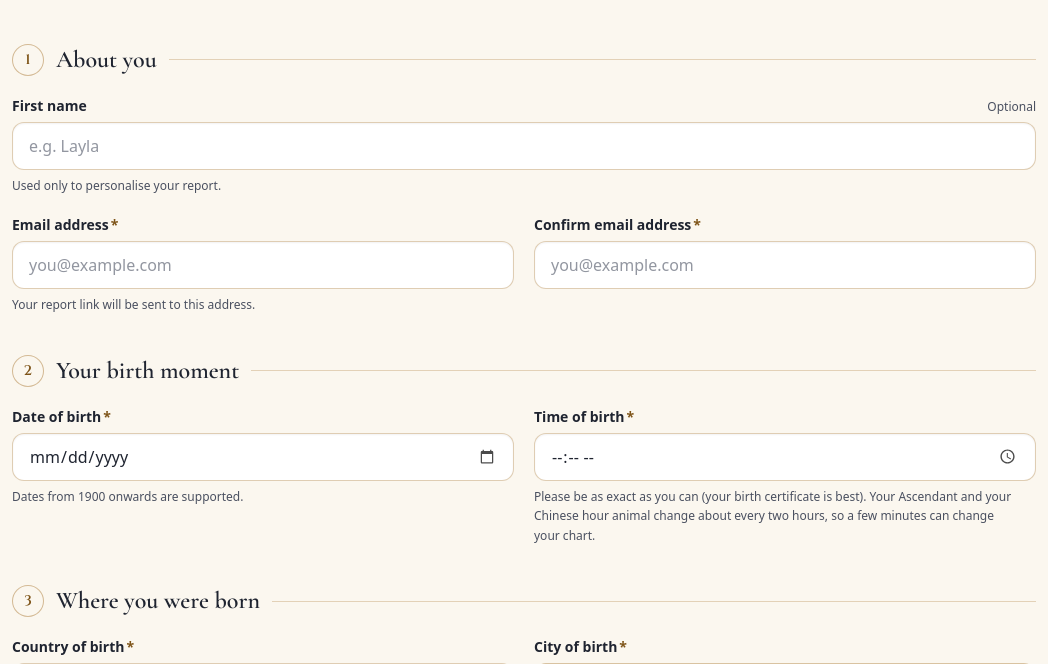
Test case: OrderForm › offers the suggested time when the birth time fell into a DST gap
In the field labelled "Email address*": [263, 265] box [12,241,514,289], type "layla@example.com"
In the field labelled "Confirm email address*": [785, 265] box [534,241,1036,289], type "layla@example.com"
In the date field labelled "Date of birth*": [263, 457] box [12,433,514,481], type "1990-10-28"
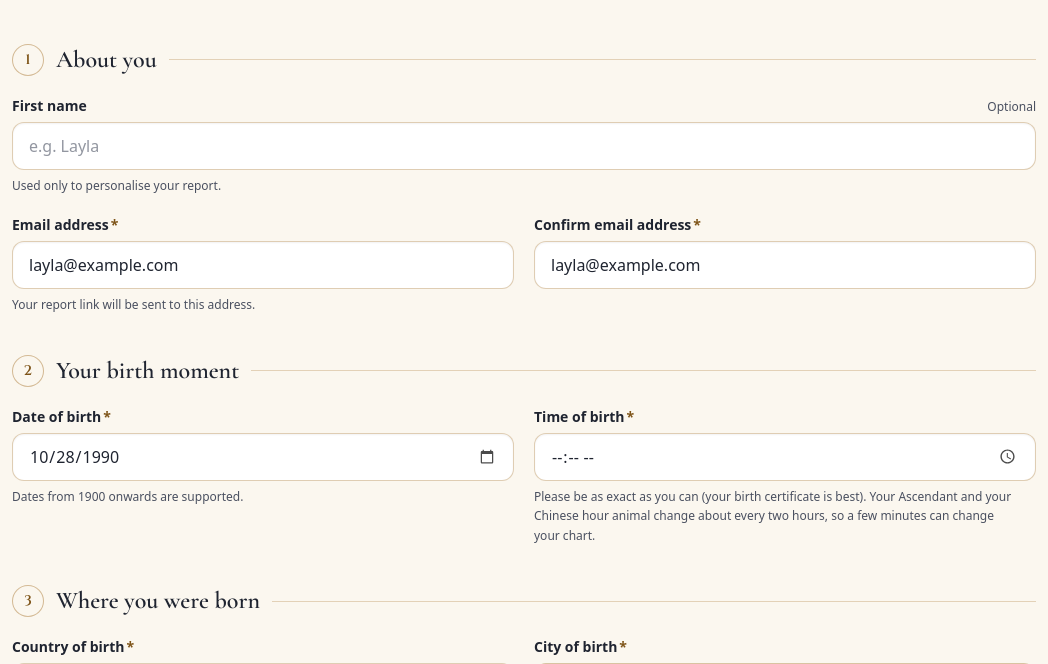
In the time field labelled "Time of birth*": [785, 457] box [534,433,1036,481], type "01:30"
(page scrolled)
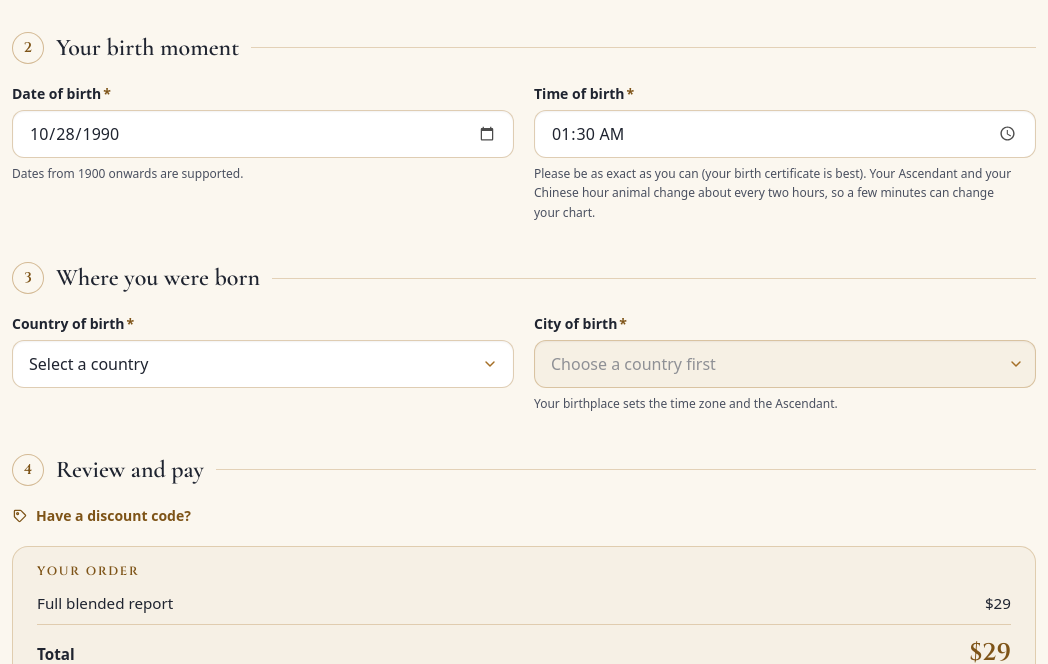
Select "Egypt" in the dropdown labelled "Country of birth*": [263, 364] box [12,340,514,388]
(page scrolled)
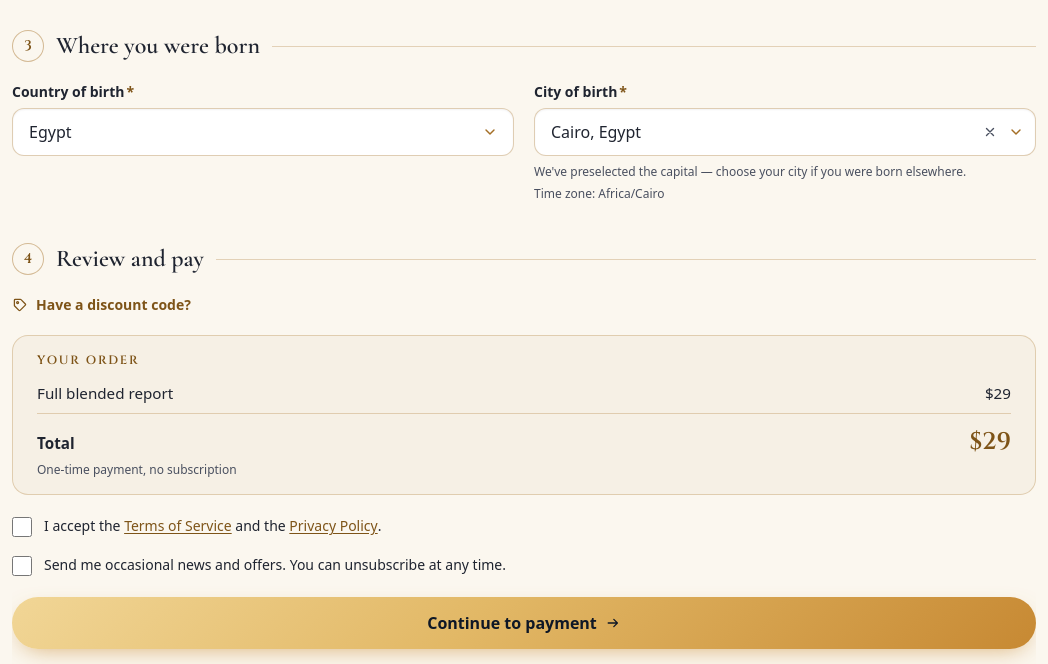
Click the checkbox labelled "I accept the Terms of Service and the Privacy Policy .": [22, 527] box [12,517,32,537]
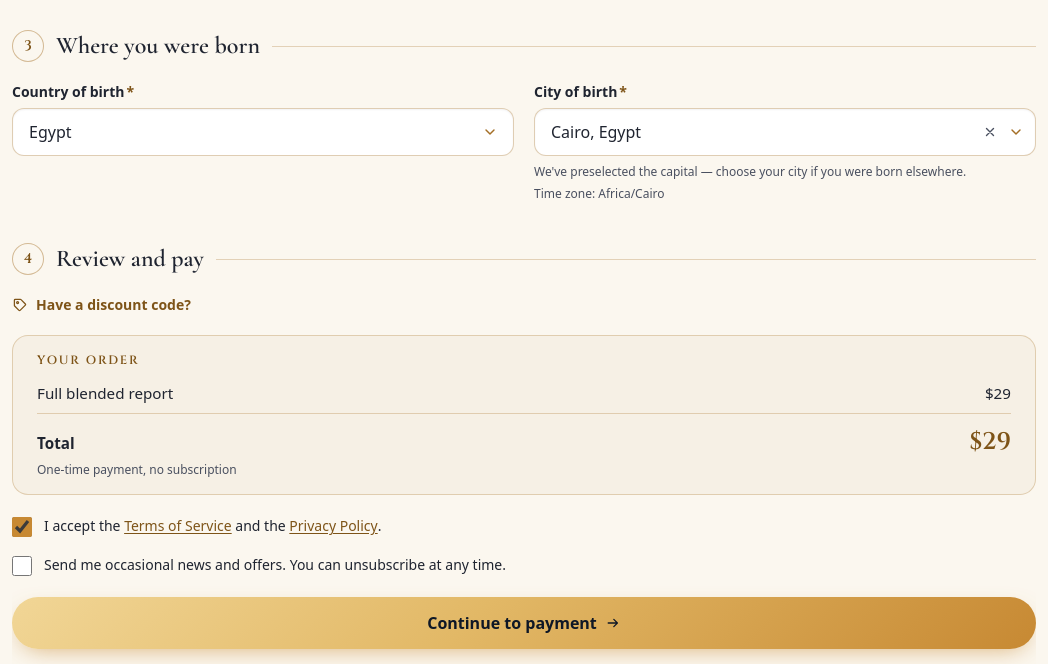
Click the button "Continue to payment": [524, 623] box [12,597,1036,649]
(page scrolled)
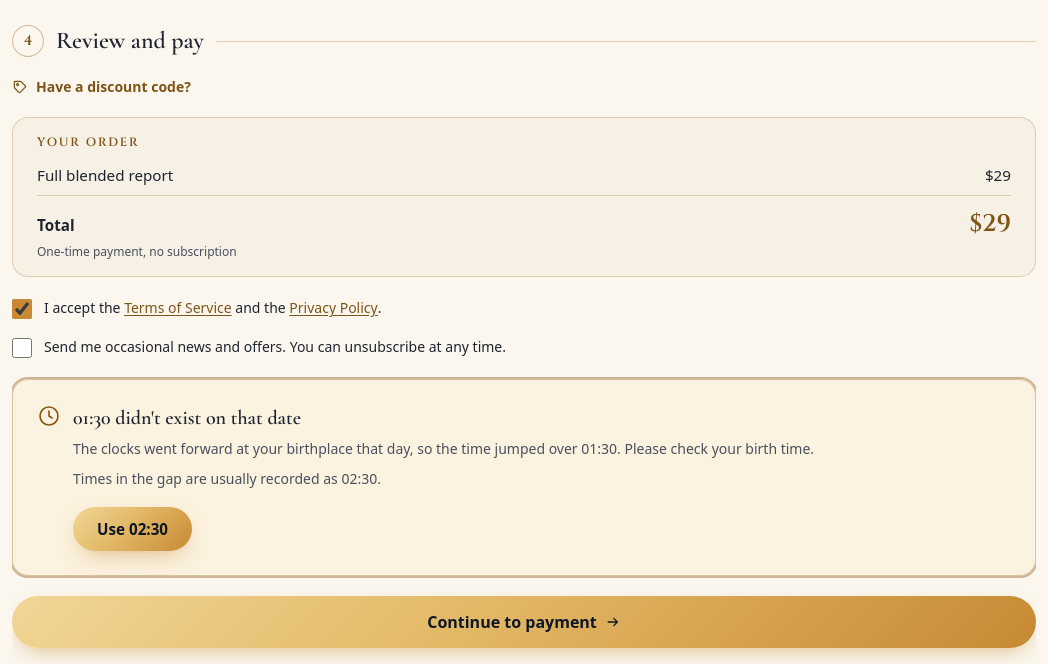
Expected: the heading "01:30 didn't exist on that date" is shown, [73,406,301,430]
Click the button "Use 02:30": [132, 529] box [73,507,192,551]
(page scrolled)
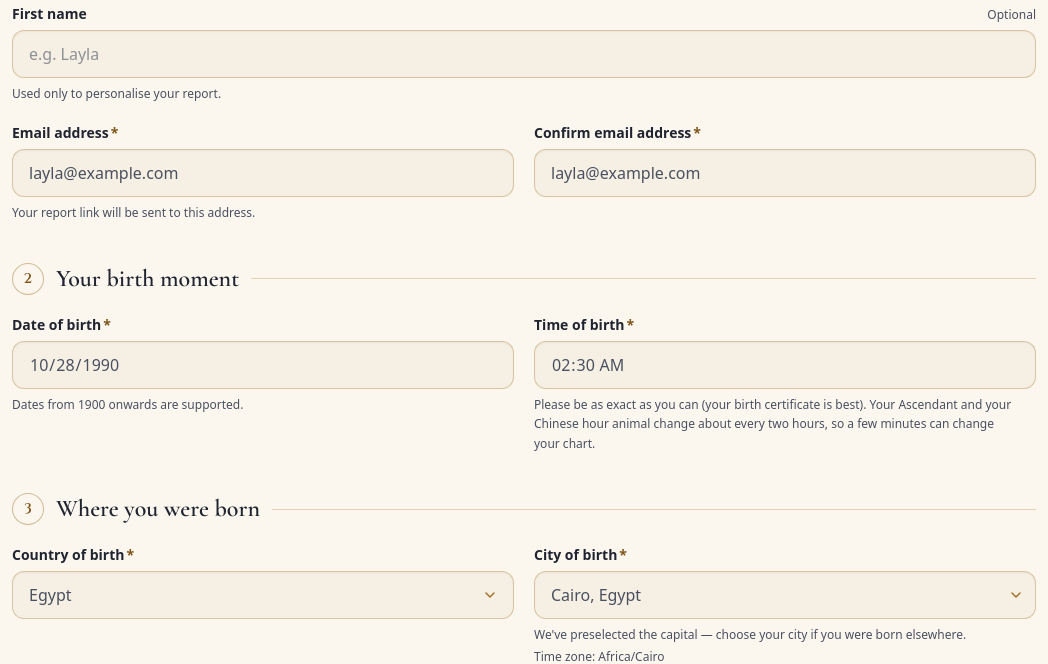
Expected: the time field labelled "Time of birth*" holds "02:30", [534,341,1036,389]
